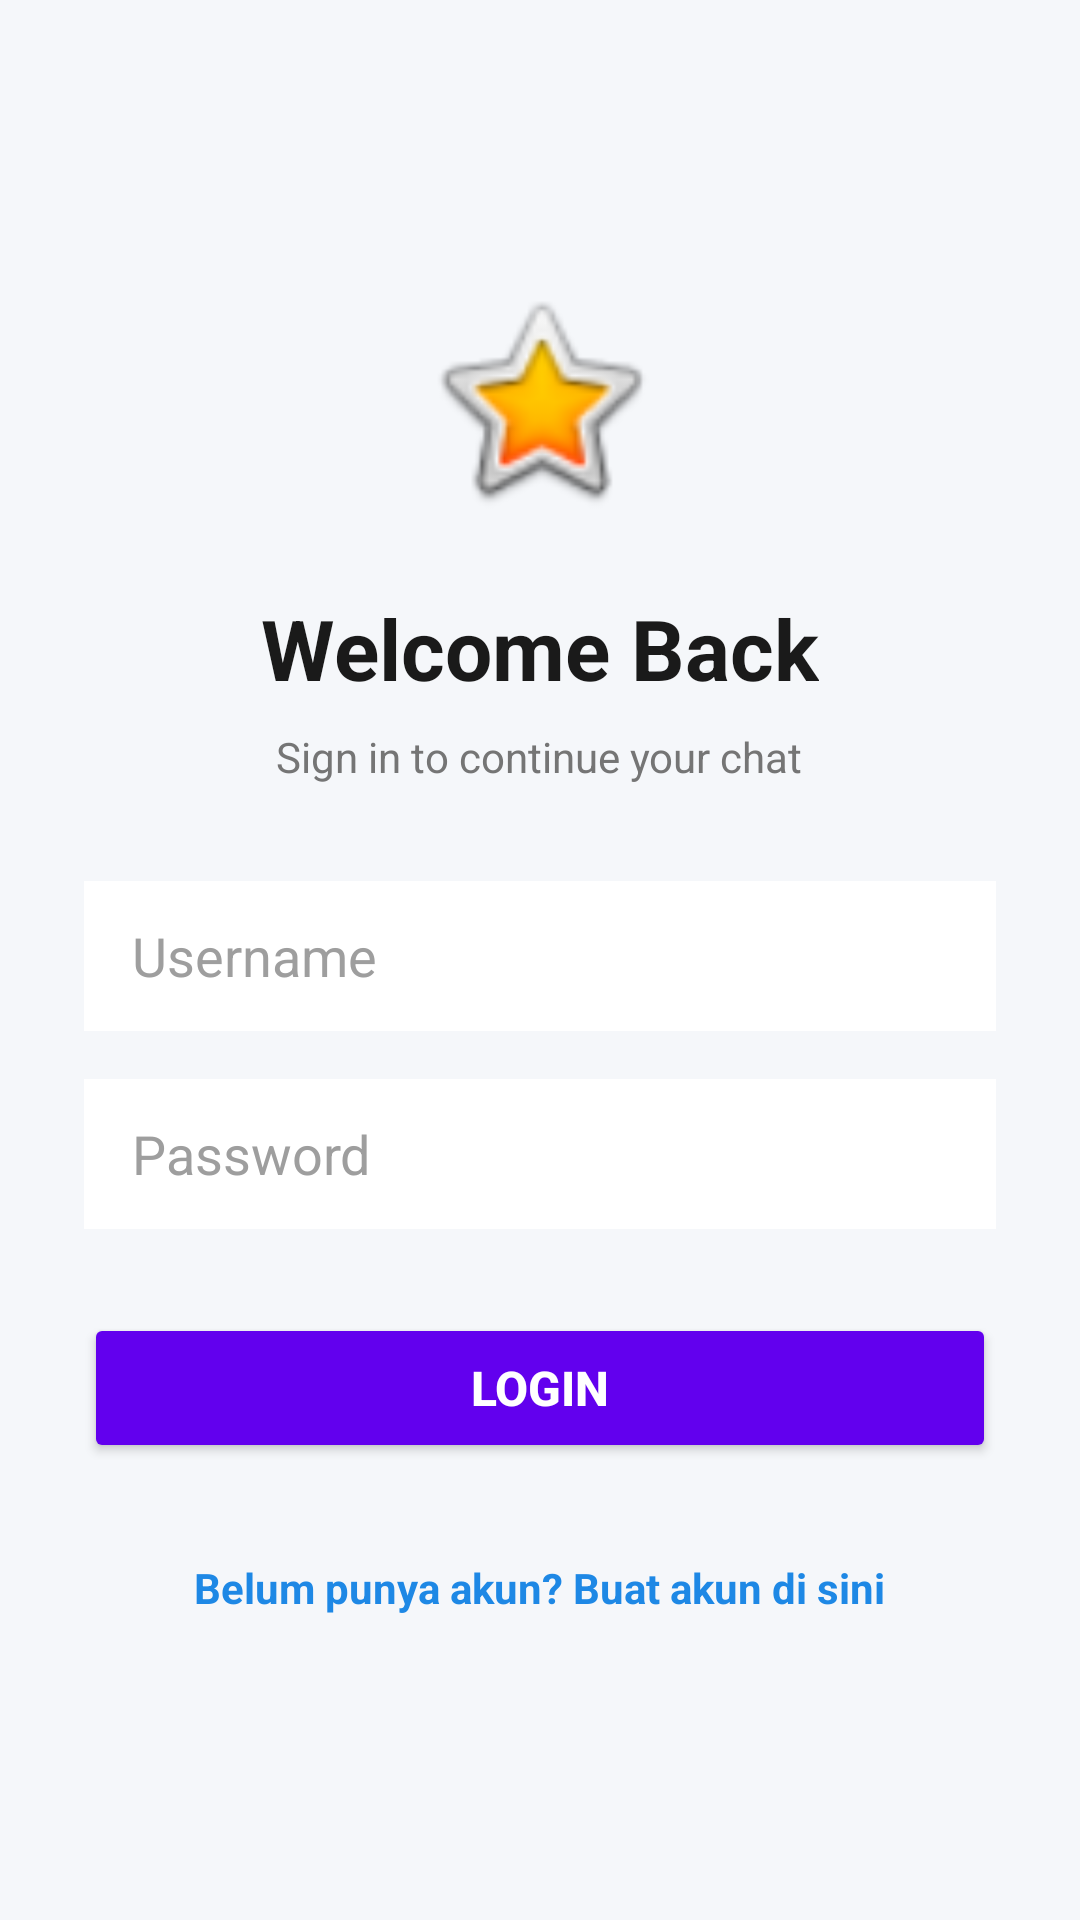

Screen size 1080 x 1920. Icon name, then its box in pixels as detection(x1, y1, x2, y2):
star on: detection(442, 304, 642, 500)
